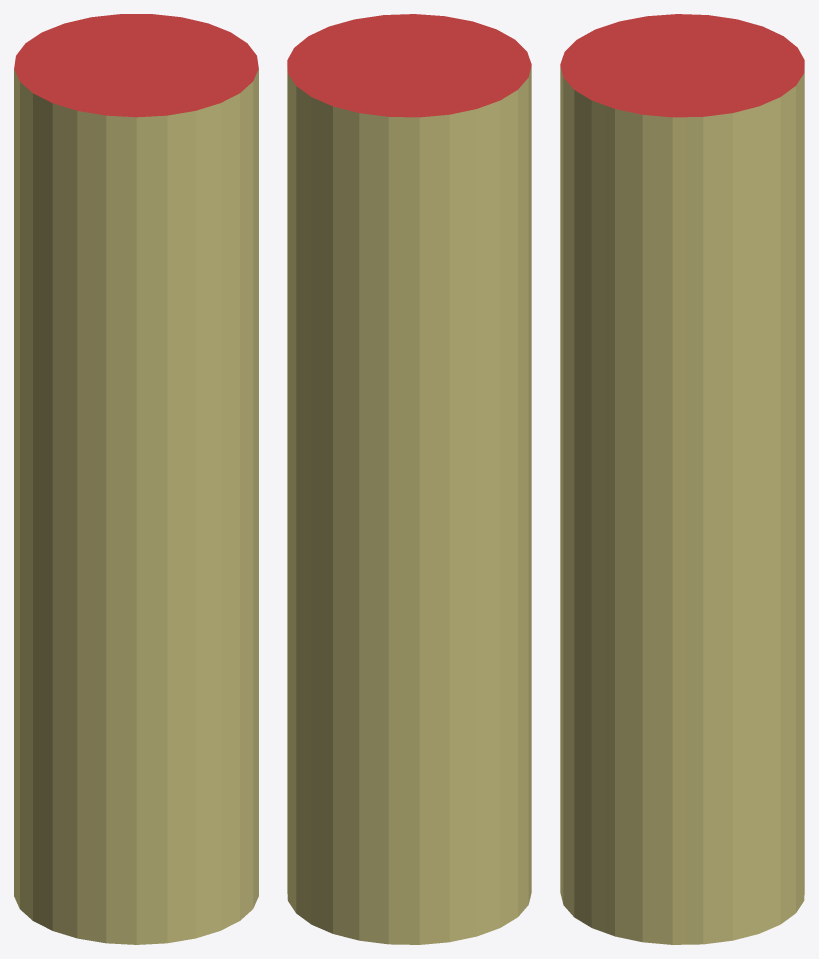
The picture shows the model from 3 angles, left to right: view 1: azimuth 30°, elevation 25°; view 2: azimuth 150°, elevation 25°; view 3: azimuth 270°, elevation 25°; orthographic projection.
Bounding box in the file's own units: 3.41 × 3.41 × 12.74.
